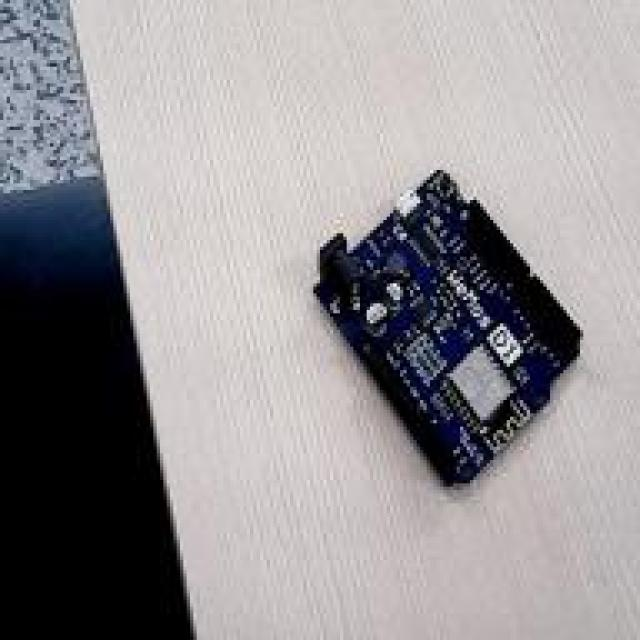Wemos: (314, 171, 578, 484)
